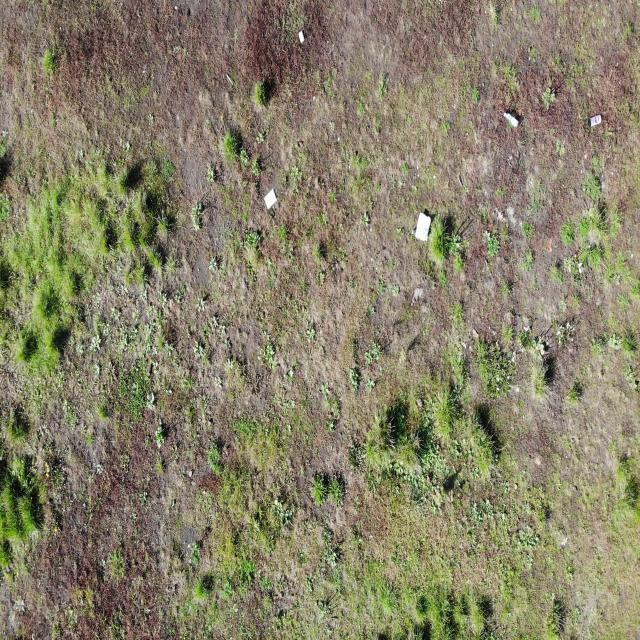rubbish: (412, 212, 432, 243), (262, 187, 278, 212), (501, 111, 519, 128), (587, 113, 602, 126), (298, 28, 306, 43)
